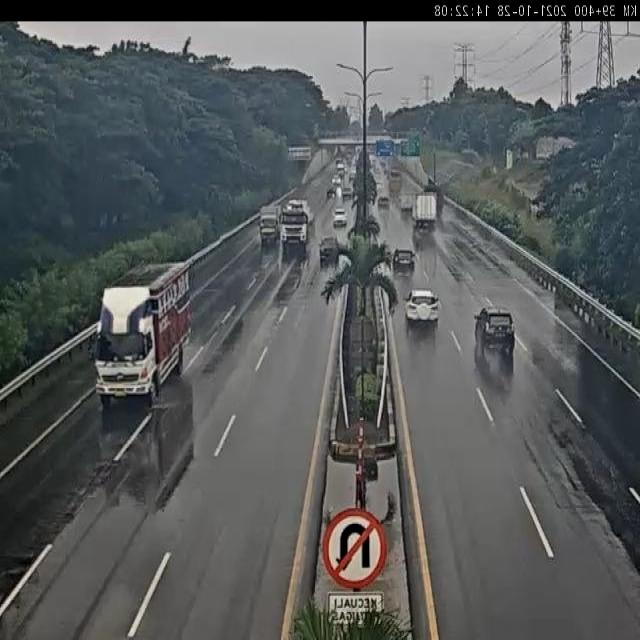Car: (472, 311, 522, 362), (404, 288, 440, 330), (392, 248, 416, 274), (318, 235, 338, 265), (375, 192, 397, 219), (330, 206, 349, 236)
Truck: (90, 262, 205, 398), (274, 195, 313, 251), (255, 204, 284, 250), (408, 191, 442, 226), (384, 164, 407, 200)
